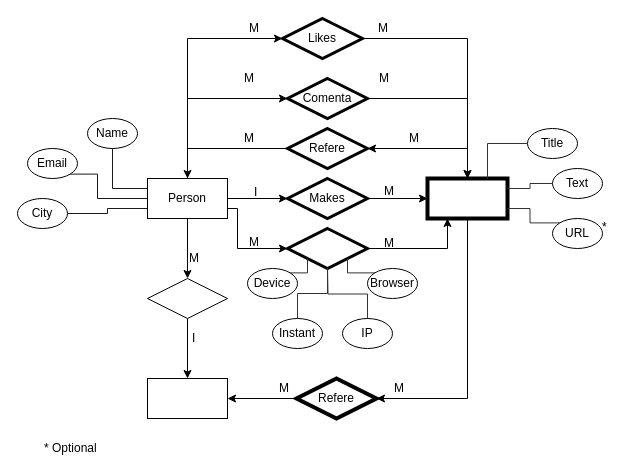
This 638x476 diagram has some shape labels left out. Here are the shapes that lost their labels. From the top down, the box of each, then its label:
(425, 176, 509, 220): Post
(286, 226, 368, 270): View
(146, 278, 228, 318): Favorites
(146, 378, 228, 418): Bird
